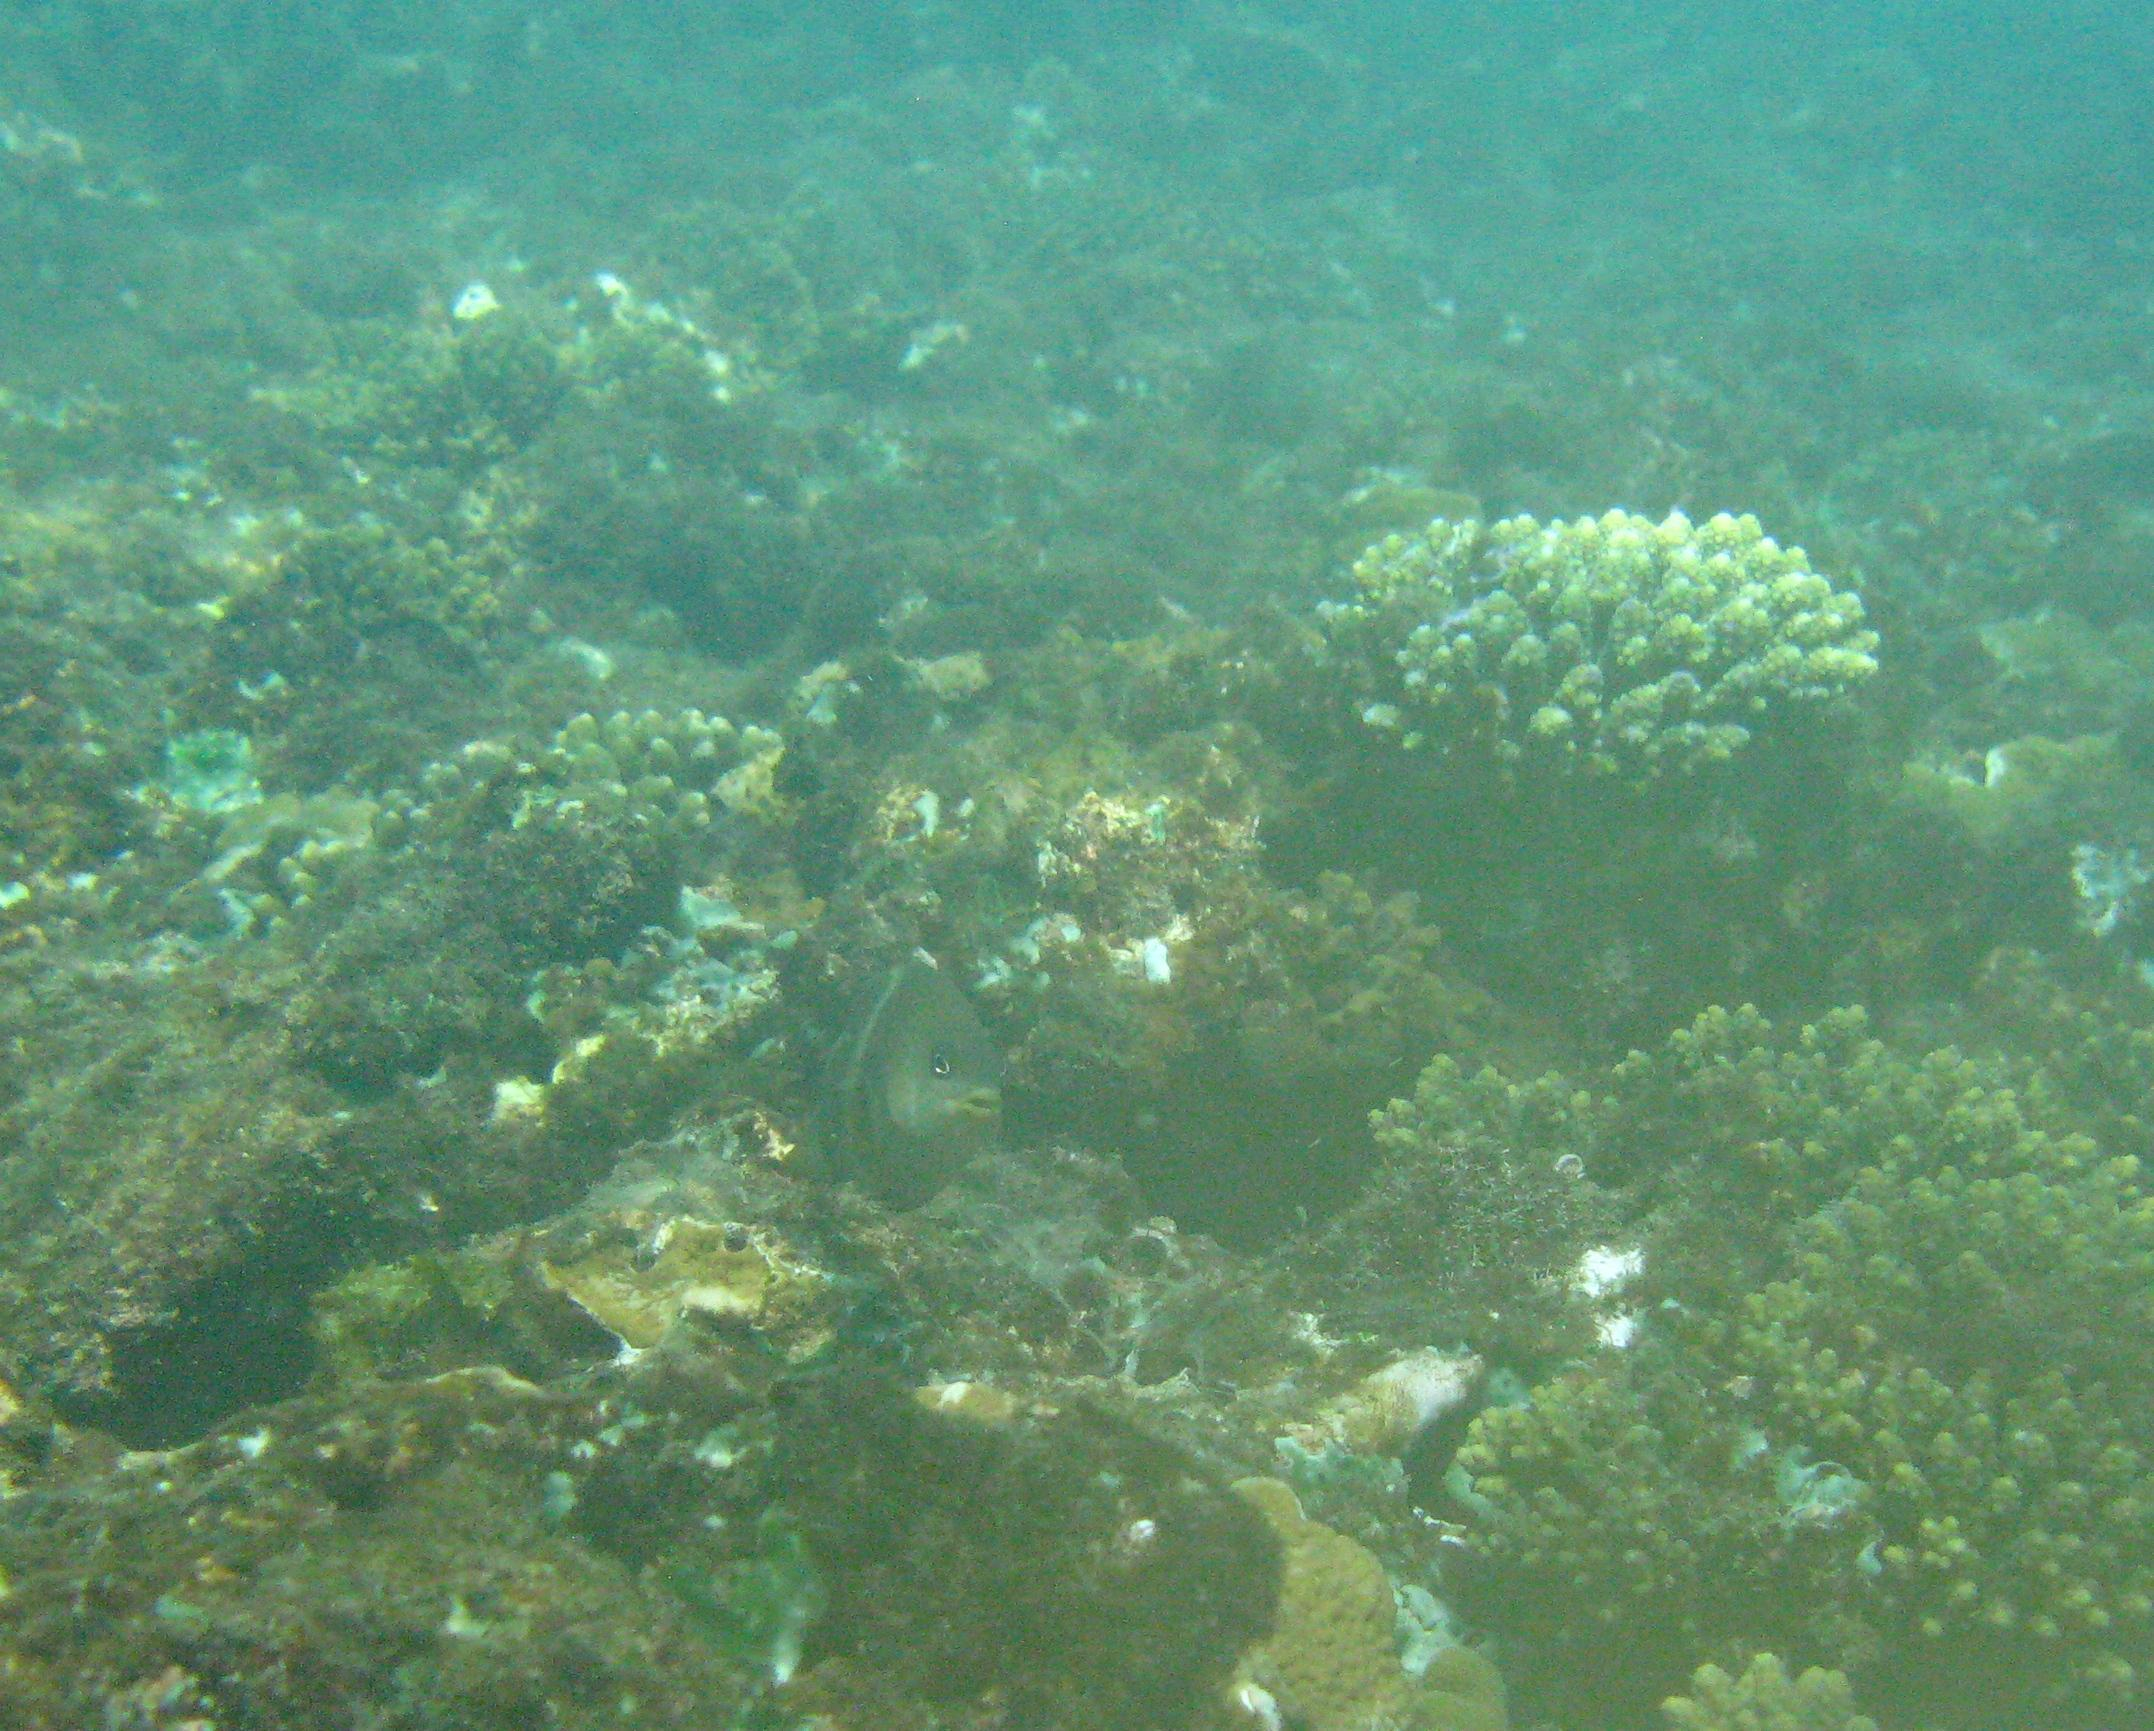Fish: (786, 867, 1026, 1256)
